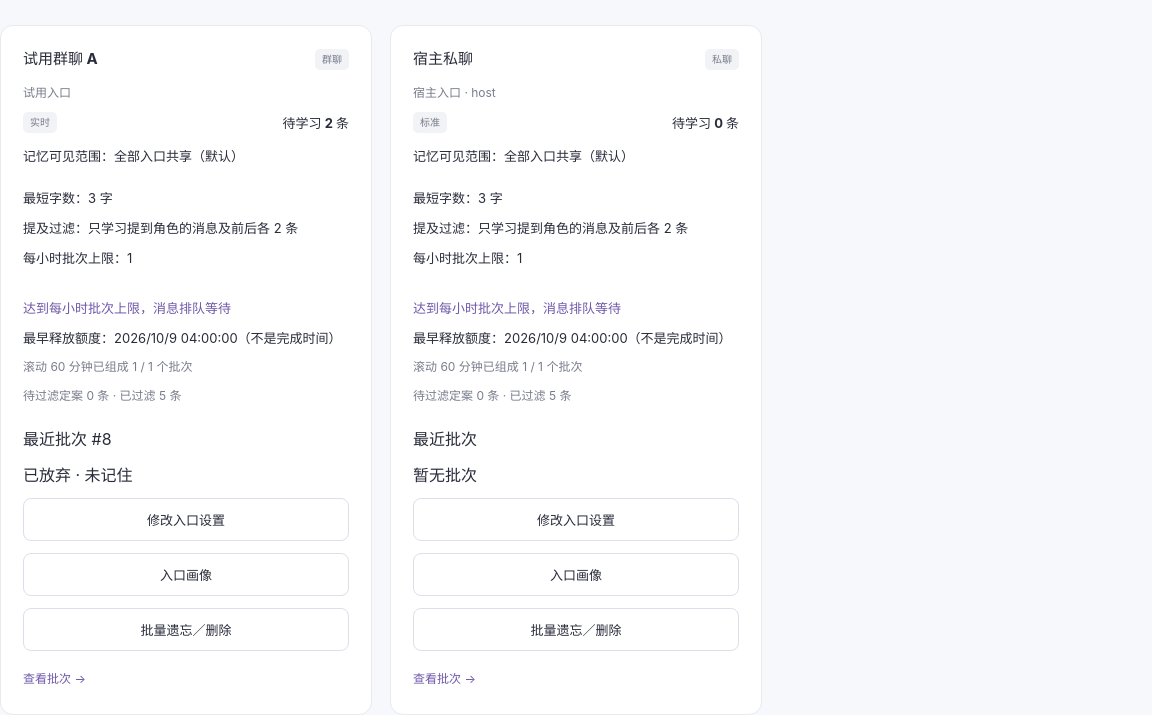
Test: 每入口可打开画像面板，打开列表不触发画像生成
(page scrolled)
Click the button with aria-label "入口画像 · 试用群聊 A". click: [186, 575]
box: 23,553 -> 349,596
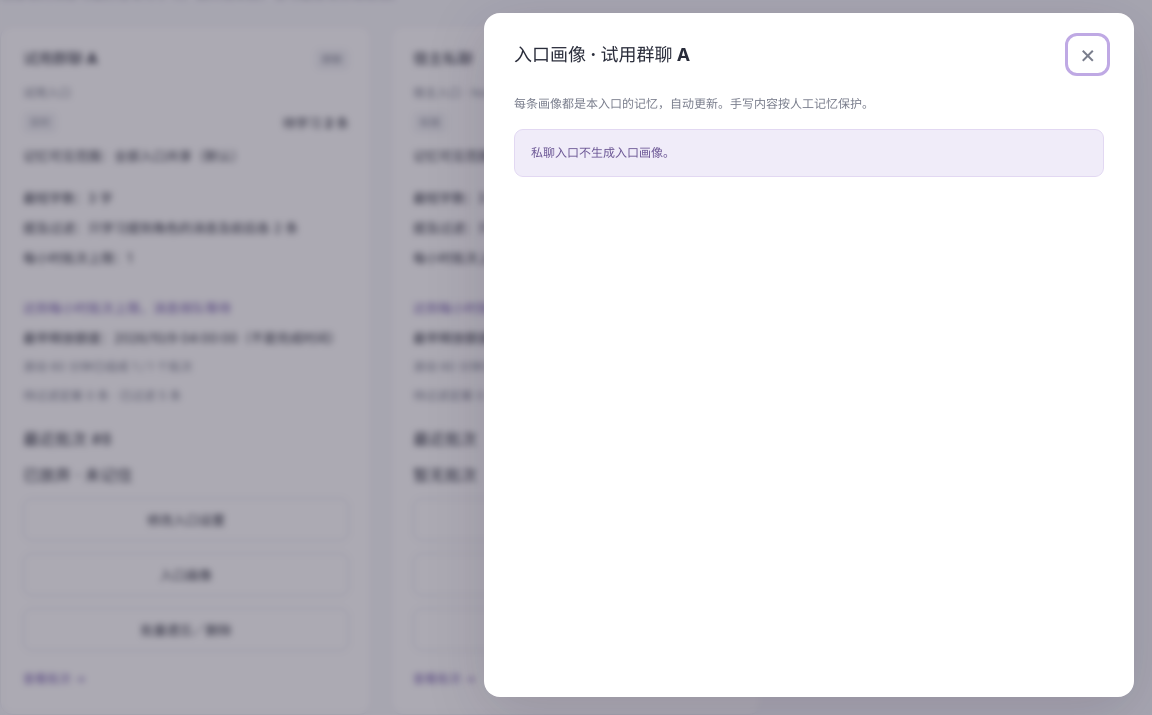
Expected: the button with aria-label "入口画像 · 宿主私聊" is shown, 413,553 -> 739,596
Expected: the dialog "入口画像 · 试用群聊 A" is shown, 484,13 -> 1134,697
